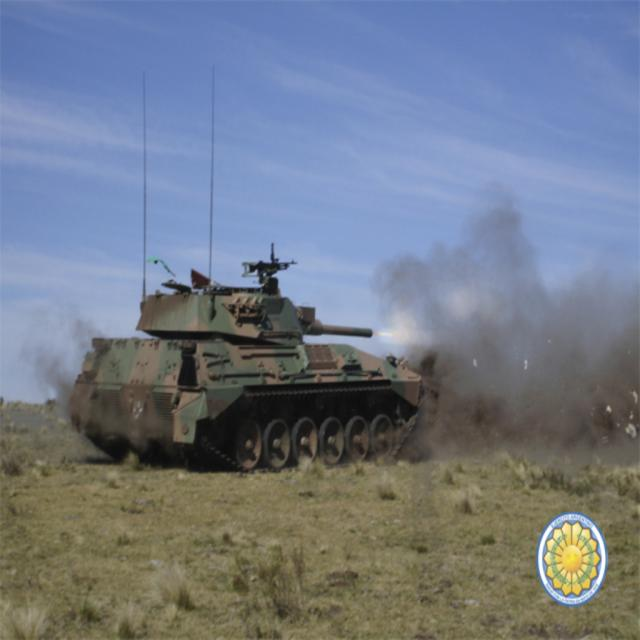tank: (66, 64, 440, 473)
